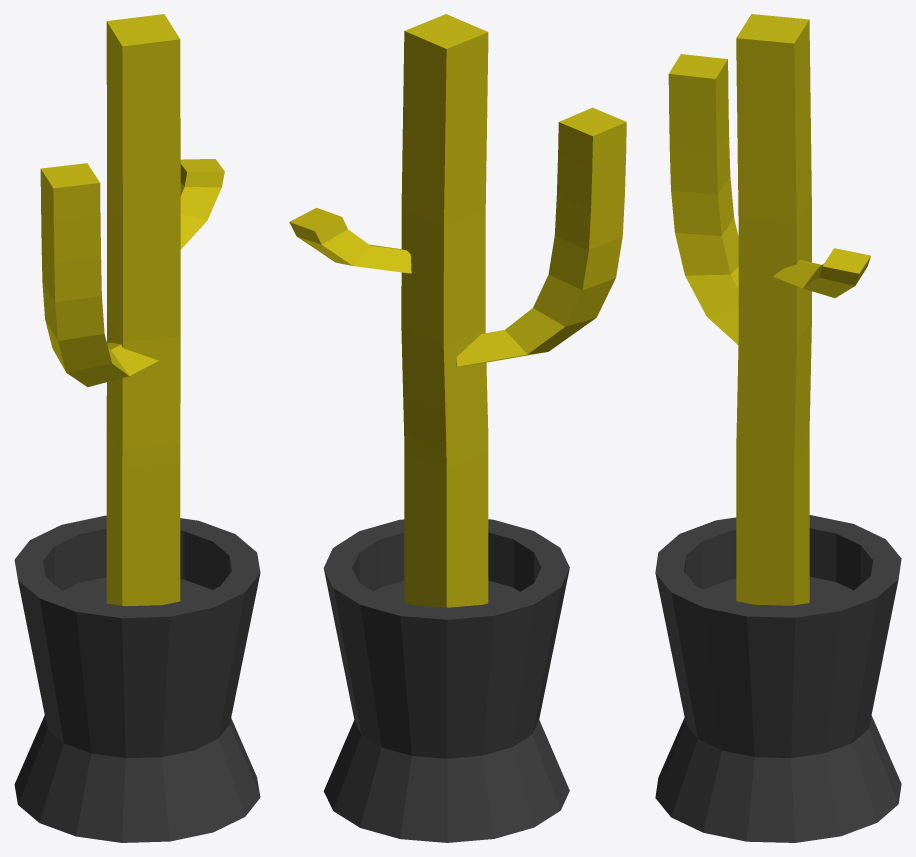
Rendered from cactus_grande_01_000014.obj.
The picture shows the model from 3 angles, left to right: view 1: azimuth 30°, elevation 25°; view 2: azimuth 150°, elevation 25°; view 3: azimuth 270°, elevation 25°; orthographic projection.
Visible parts, largest first — view 1: Cylinder, NurbsPath.001, NurbsPath.002, NurbsPath.003; view 2: Cylinder, NurbsPath.001, NurbsPath.002, NurbsPath.003; view 3: Cylinder, NurbsPath.001, NurbsPath.002, NurbsPath.003.
Part boxes in pixels (x1=…): Cylinder: x1=14, y1=515, x2=260, y2=842; NurbsPath.001: x1=106, y1=14, x2=180, y2=606; NurbsPath.002: x1=40, y1=163, x2=158, y2=386; NurbsPath.003: x1=180, y1=159, x2=224, y2=249; Cylinder: x1=323, y1=519, x2=569, y2=842; NurbsPath.001: x1=401, y1=14, x2=488, y2=607; NurbsPath.002: x1=456, y1=107, x2=626, y2=366; NurbsPath.003: x1=289, y1=207, x2=411, y2=273; Cylinder: x1=655, y1=515, x2=901, y2=842; NurbsPath.001: x1=736, y1=14, x2=811, y2=605; NurbsPath.002: x1=668, y1=54, x2=738, y2=344; NurbsPath.003: x1=773, y1=248, x2=870, y2=297.
Size of the model in its own units: 1.52 by 4.41 by 1.29.
